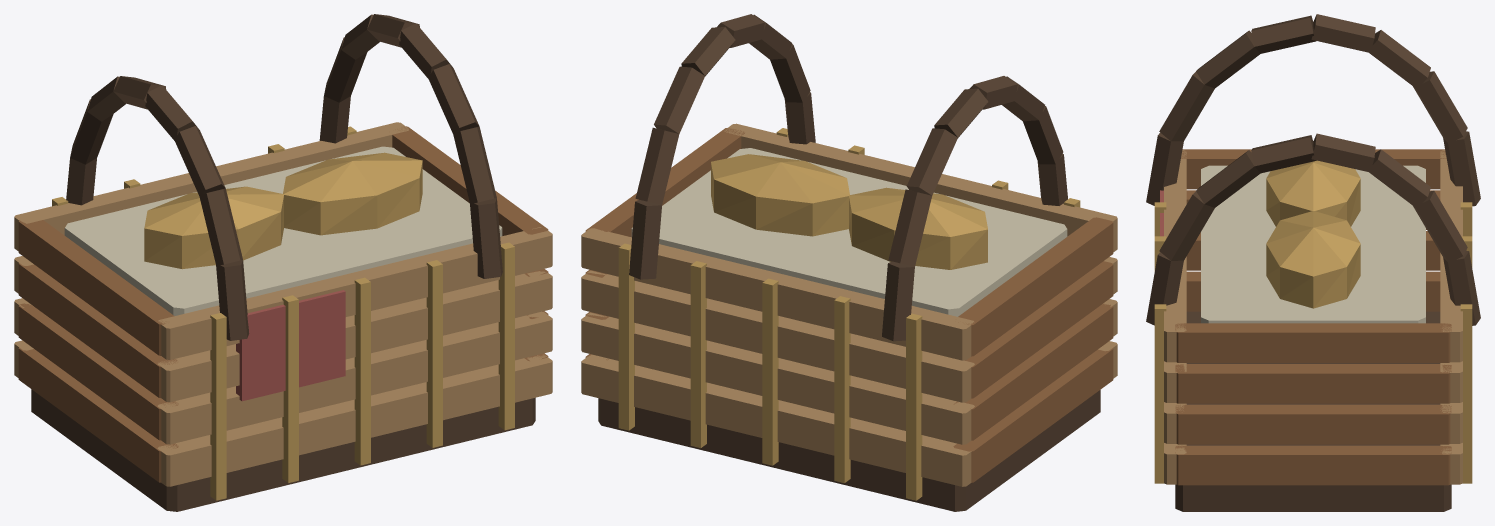
File: picnic_basket.glb
3 renders of one model, left to right at view 1: azimuth 30°, elevation 25°; view 2: azimuth 150°, elevation 25°; view 3: azimuth 270°, elevation 25°, orthographic. The views are drawn at different scales.
Visible parts, largest first — view 1: geometry; view 2: geometry; view 3: geometry.
Part boxes in pixels (x1,y1,x2,y2): geometry: (14, 14, 552, 511); geometry: (581, 14, 1117, 511); geometry: (1146, 14, 1480, 511).
Bounding box in the file's own units: 0.675 × 0.6003 × 0.5213.
